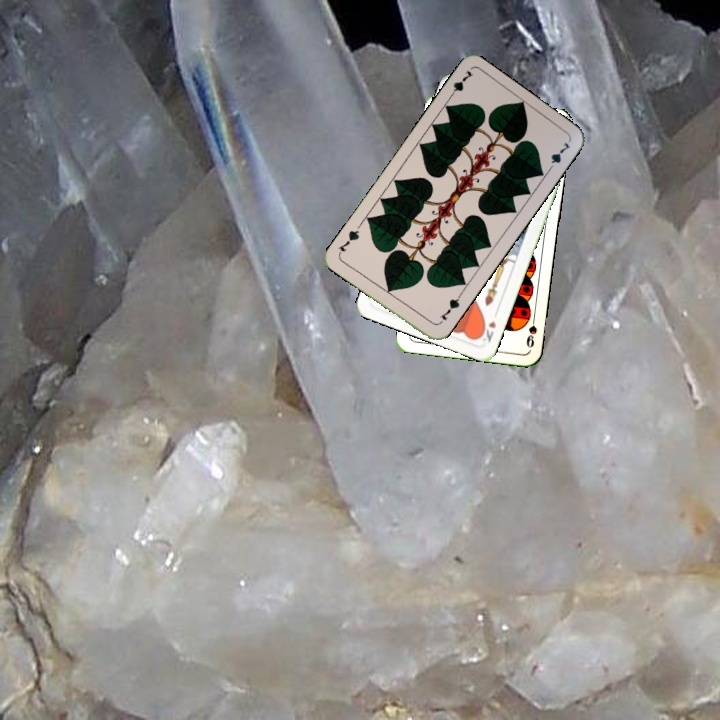G7: (444, 66, 476, 102), (434, 292, 463, 327)
HK: (475, 317, 499, 345)
S9: (522, 311, 540, 350)
